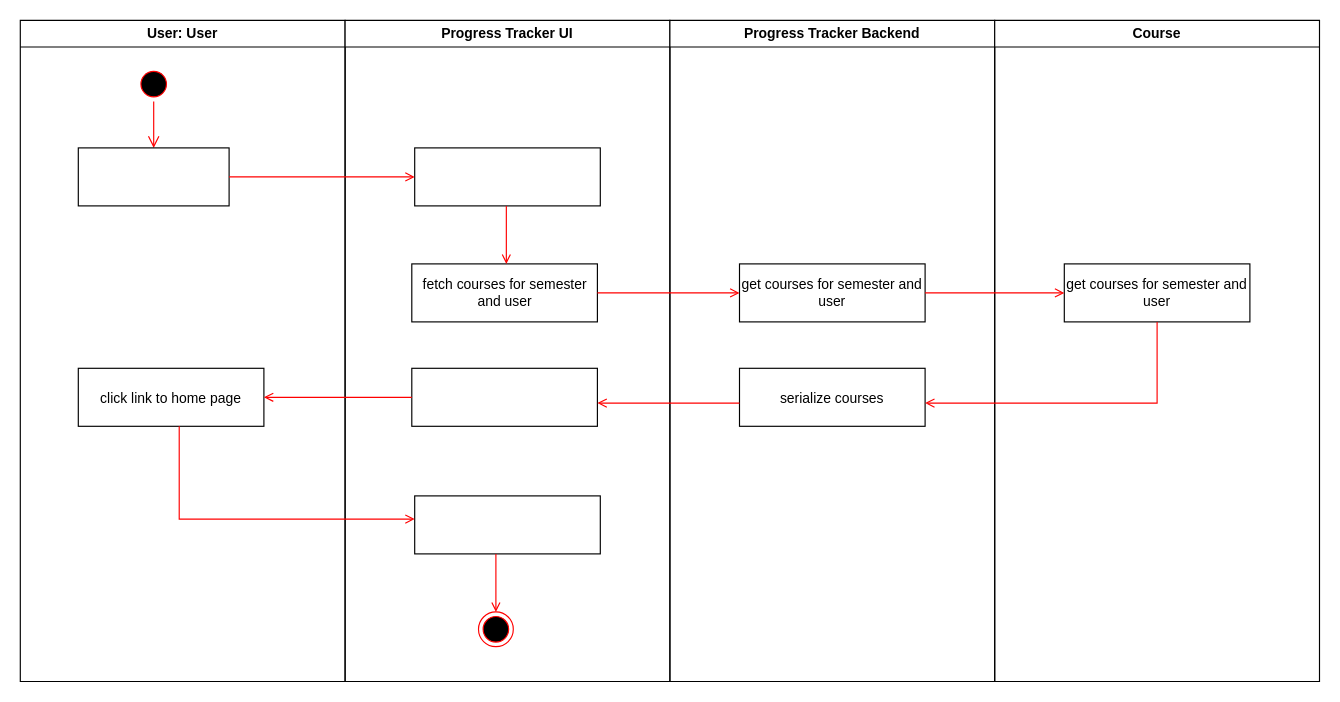
The diagram is 1340 pixels wide and 702 high, and some of its shapes have lost their labels. Here are the shapes that lost their labels. From the top down, the centre of each, then its label:
At pixel 153 176: "click semester link on semesters page".
At pixel 507 176: "redirect to courses page for semester".
At pixel 504 396: "render courses".
At pixel 507 524: "redirect to home page".
